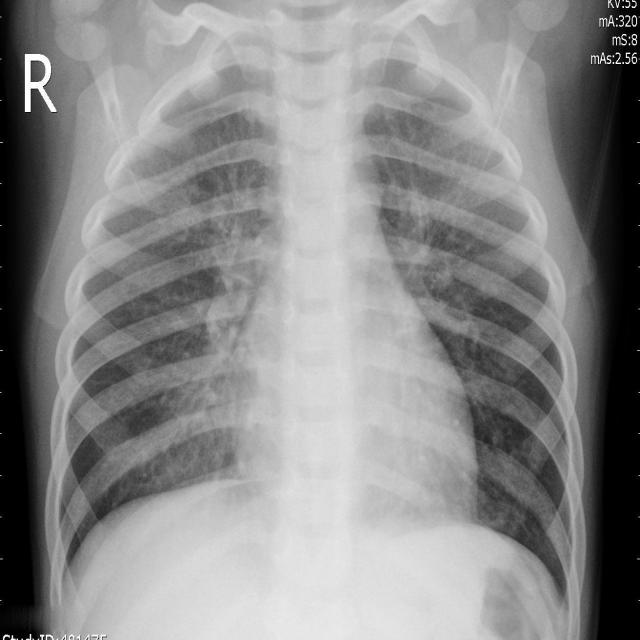low-pneumonia: (381, 126, 510, 359), (200, 99, 282, 347), (156, 346, 262, 493)
